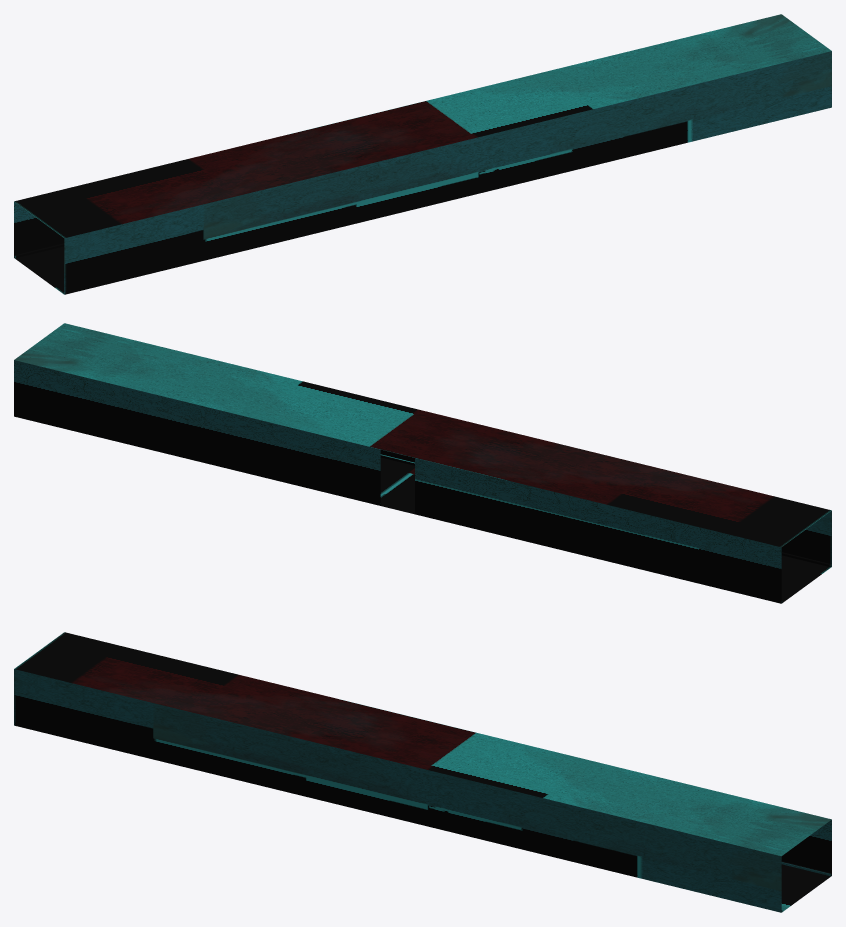
Rendered from koridorArkaOrta.fbx.
3 renders of one model, top to bottom at view 1: azimuth 30°, elevation 25°; view 2: azimuth 150°, elevation 25°; view 3: azimuth 330°, elevation 25°, orthographic.
Visible parts, largest first — view 1: arkaOrta; view 2: arkaOrta; view 3: arkaOrta.
Part boxes in pixels (<box>): arkaOrta: <box>14,14,831,294</box>; arkaOrta: <box>14,323,831,603</box>; arkaOrta: <box>14,632,831,912</box>.
Bounding box in the file's own units: 6400 × 450 × 728.
